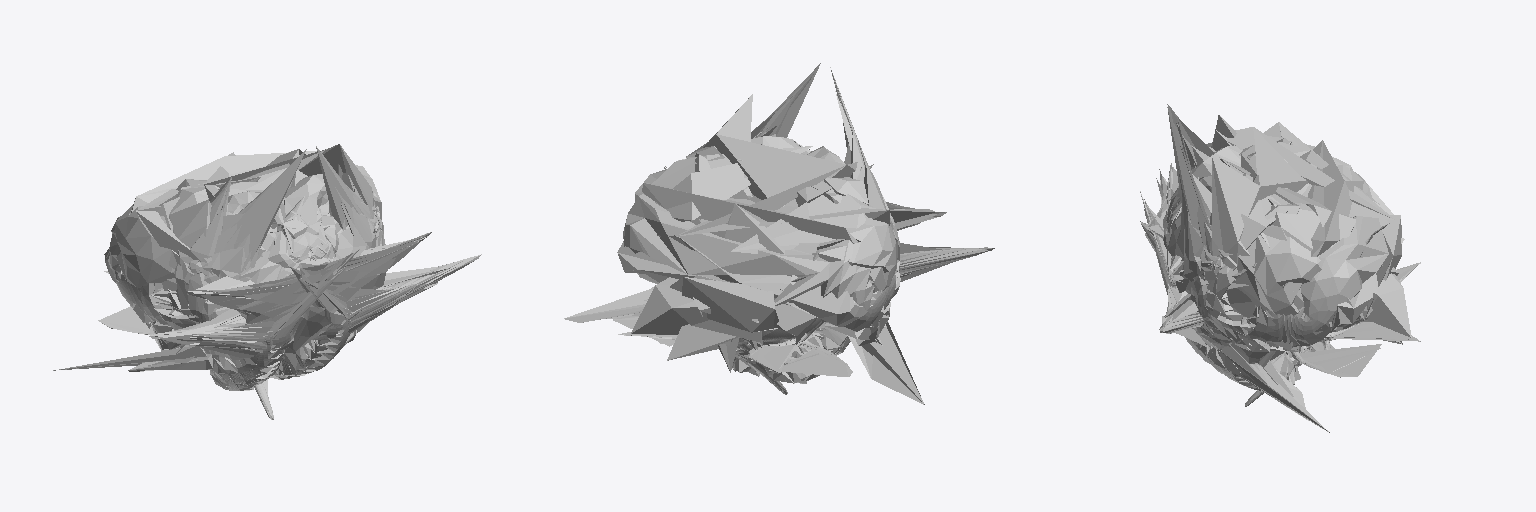
The model's file is alien.obj.
3 views of the same model, side by side, from view 1: azimuth 30°, elevation 25°; view 2: azimuth 150°, elevation 25°; view 3: azimuth 270°, elevation 25° (orthographic).
Parts seen in each view (by area): view 1: Quad_Sphere; view 2: Quad_Sphere; view 3: Quad_Sphere.
Boxes of the visible parts, box(x1,y1,x2,y2) form: Quad_Sphere: box(53, 144, 481, 419); Quad_Sphere: box(564, 63, 994, 404); Quad_Sphere: box(1140, 104, 1420, 432).
Bounding box in the file's own units: 0.1816 × 0.1458 × 0.1226.